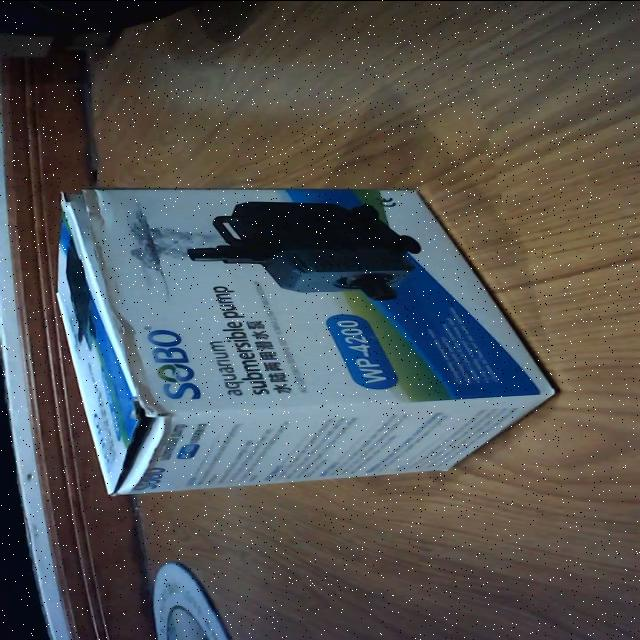SOBO_WP_4200: (27, 169, 570, 505)
